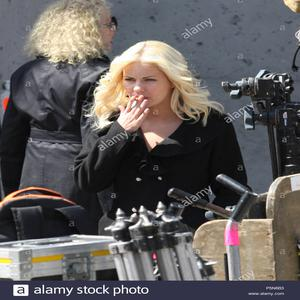cigarette: (128, 96, 138, 113)
